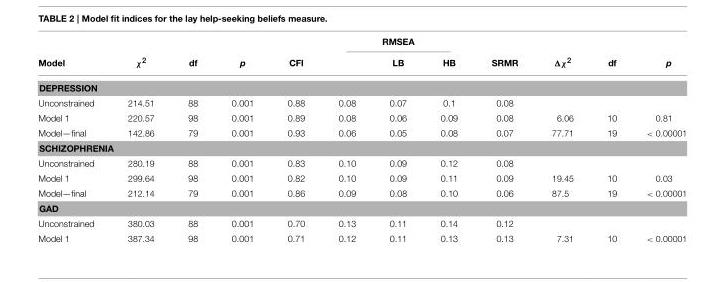table: (37, 37, 686, 242)
table column: (37, 37, 110, 242), (473, 37, 534, 242), (110, 37, 170, 242), (213, 37, 269, 242), (630, 37, 686, 242), (534, 37, 589, 242), (269, 37, 320, 242), (320, 37, 371, 242), (371, 37, 422, 242), (422, 37, 473, 242), (170, 37, 213, 242), (589, 37, 630, 242)
table column header: (37, 37, 686, 75)
table projected row header: (37, 75, 686, 95), (37, 140, 686, 155), (37, 200, 686, 215)
table row: (37, 51, 686, 75), (37, 75, 686, 95), (37, 95, 686, 110), (37, 110, 686, 125), (37, 125, 686, 140), (37, 140, 686, 155), (37, 155, 686, 170), (37, 170, 686, 185), (37, 185, 686, 200), (37, 200, 686, 215), (37, 215, 686, 230), (37, 37, 686, 51), (37, 230, 686, 242)
table spanning cell: (37, 37, 110, 75), (473, 37, 534, 75), (110, 37, 170, 75), (320, 37, 473, 51), (213, 37, 269, 75), (630, 37, 686, 75), (534, 37, 589, 75), (269, 37, 320, 75), (170, 37, 213, 75), (589, 37, 630, 75)
